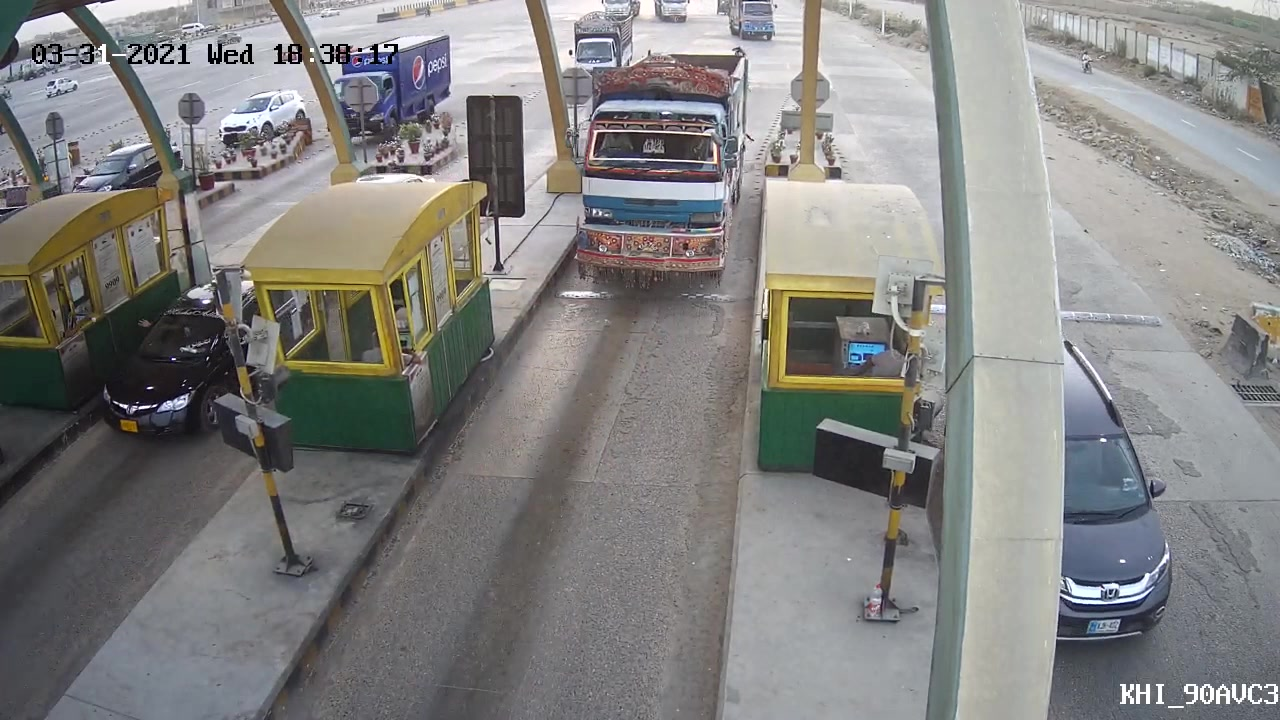F5: (559, 46, 757, 294)
